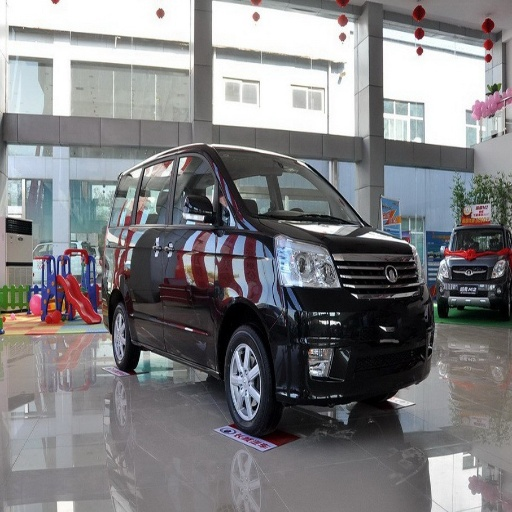front_bumper: (267, 254, 435, 403)
front_right_door: (159, 149, 234, 353)
front_right_light: (263, 237, 336, 287)
